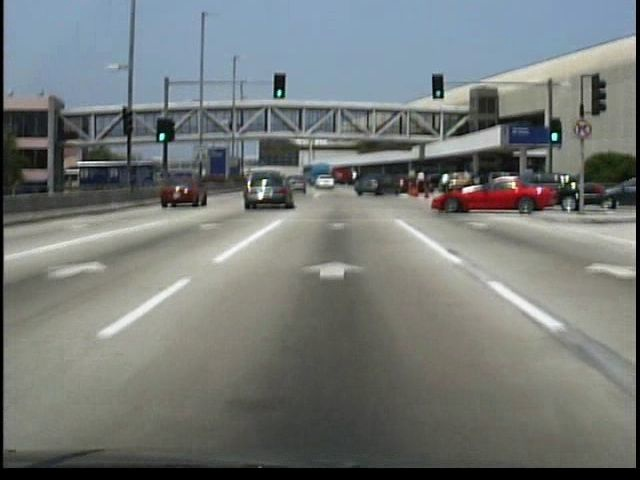person: (411, 165, 428, 194), (439, 166, 452, 189), (226, 118, 233, 133)
